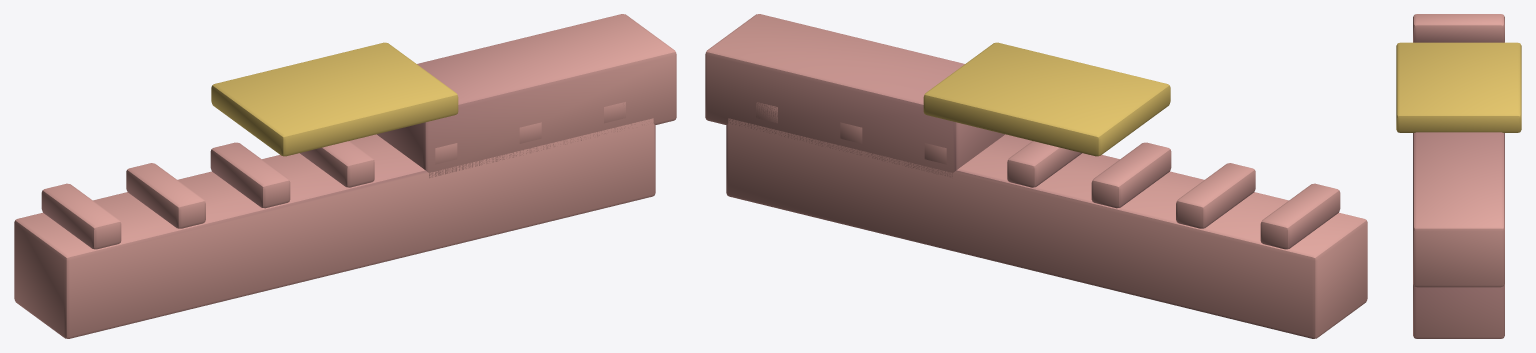
3 renders of one model, left to right at view 1: azimuth 30°, elevation 25°; view 2: azimuth 150°, elevation 25°; view 3: azimuth 270°, elevation 25°, orthographic. The views are drawn at different scales.
Parts seen in each view (by area): view 1: landmark_d835e4c6; view 2: landmark_d835e4c6; view 3: landmark_d835e4c6.
Part boxes in pixels (left/top/right/bottom): landmark_d835e4c6: left=14, top=14, right=676, bottom=338; landmark_d835e4c6: left=705, top=14, right=1367, bottom=338; landmark_d835e4c6: left=1396, top=14, right=1521, bottom=338.
Size of the model in its own units: 14.5 by 3.65 by 3.
